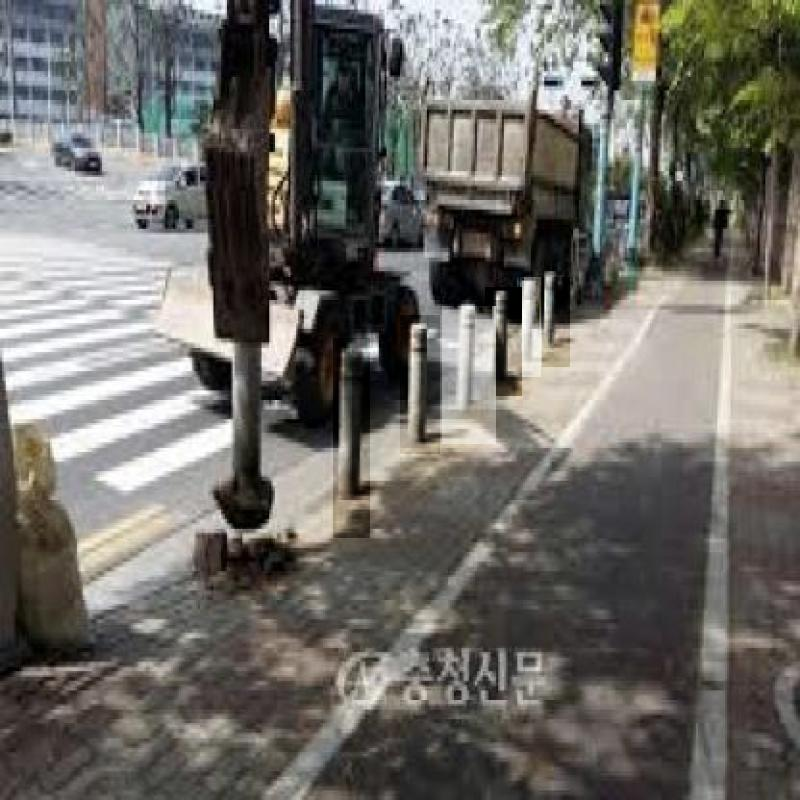bolard: (442, 306, 496, 444), (333, 338, 370, 538), (400, 315, 440, 454), (485, 287, 522, 396), (542, 277, 570, 367), (518, 277, 542, 377)
